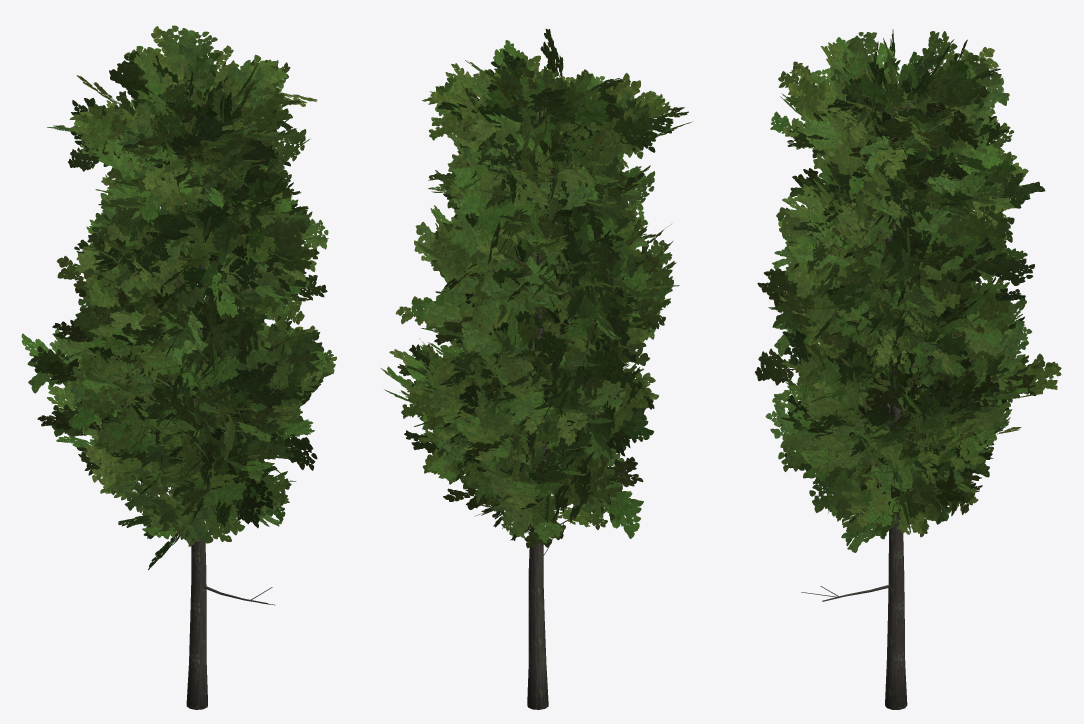
File: olse_stredni.glb
3 views of the same model, side by side, from view 1: azimuth 30°, elevation 25°; view 2: azimuth 150°, elevation 25°; view 3: azimuth 270°, elevation 25° (orthographic).
Parts seen in each view (by area): view 1: olse_stredni; view 2: olse_stredni; view 3: olse_stredni.
Boxes of the visible parts, x1=… form: olse_stredni: x1=21, y1=25, x2=336, y2=709; olse_stredni: x1=381, y1=28, x2=692, y2=709; olse_stredni: x1=755, y1=29, x2=1061, y2=709.
Bounding box in the file's own units: 7.24 × 15.76 × 7.06.
2 materials, 2 textured.
